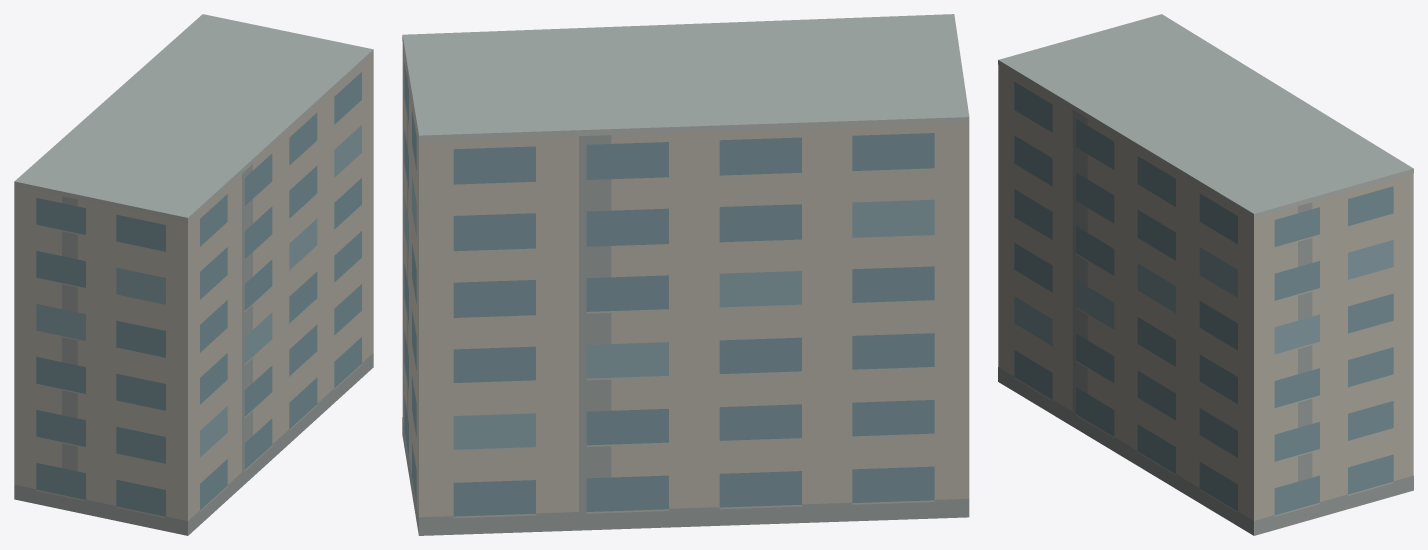
Rendered from survey-upis-32814816.glb.
3 views of the same model, side by side, from view 1: azimuth 30°, elevation 25°; view 2: azimuth 150°, elevation 25°; view 3: azimuth 270°, elevation 25° (orthographic). The views are drawn at different scales.
Parts seen in each view (by area): view 1: survey-upis-32814816.tmp; view 2: survey-upis-32814816.tmp; view 3: survey-upis-32814816.tmp.
Boxes of the visible parts, x1,y1,x2,y2 form: survey-upis-32814816.tmp: (14, 14, 373, 535); survey-upis-32814816.tmp: (402, 14, 969, 535); survey-upis-32814816.tmp: (998, 14, 1413, 535).
Bounding box in the file's own units: 21.72 × 16.3 × 19.08.
